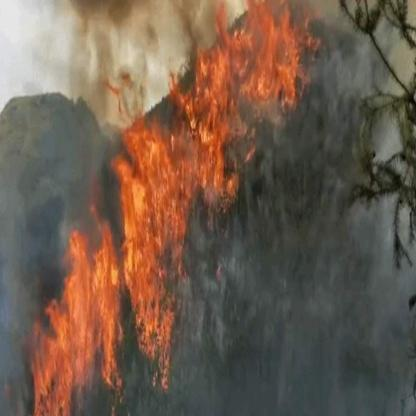Fire: (16, 0, 323, 415)
